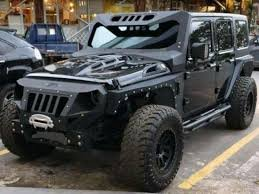mobil: (13, 11, 254, 178)
